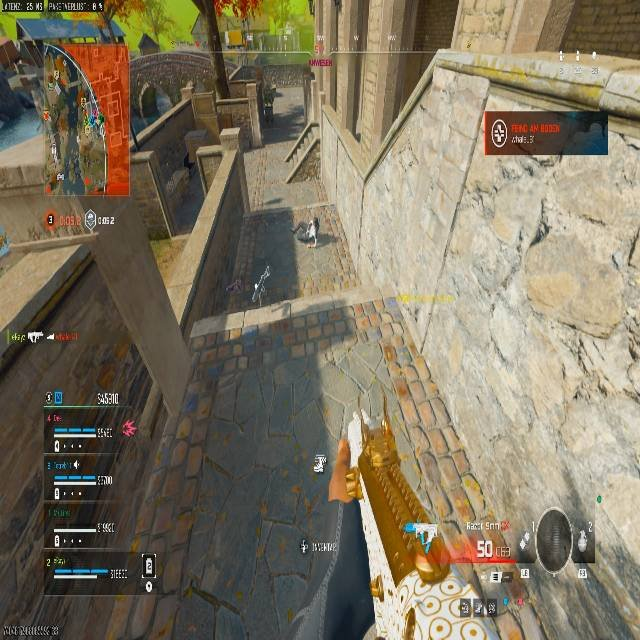head: (312, 217, 319, 225)
player: (370, 554, 515, 639), (290, 216, 319, 248), (263, 79, 278, 127)
